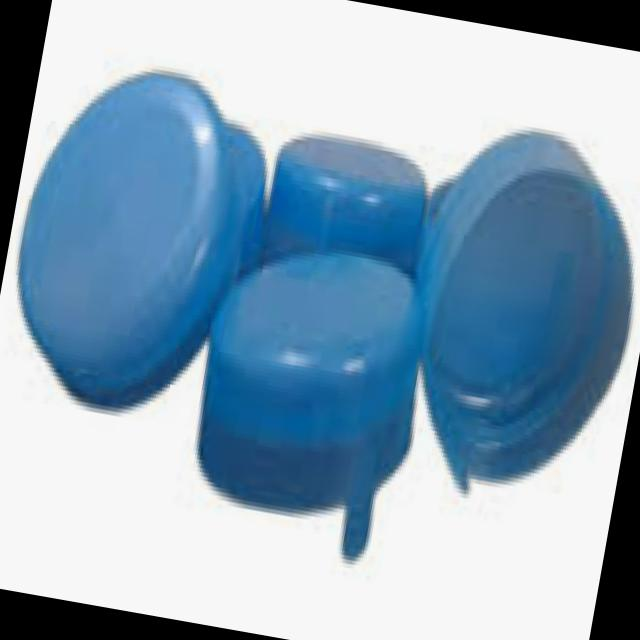Kardus: (0, 40, 260, 424), (168, 213, 442, 555)
TutupGalon: (0, 35, 640, 601)
